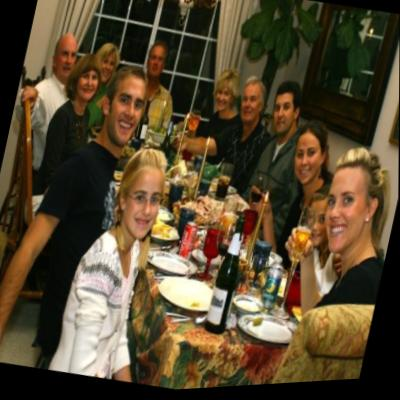happy: (318, 169, 373, 260), (119, 168, 167, 244), (103, 73, 148, 152), (290, 137, 325, 190), (236, 82, 267, 131), (304, 203, 332, 249), (74, 67, 101, 105), (96, 49, 121, 86), (210, 83, 235, 118)
netural: (48, 36, 80, 82), (268, 94, 298, 143), (146, 46, 168, 82)
